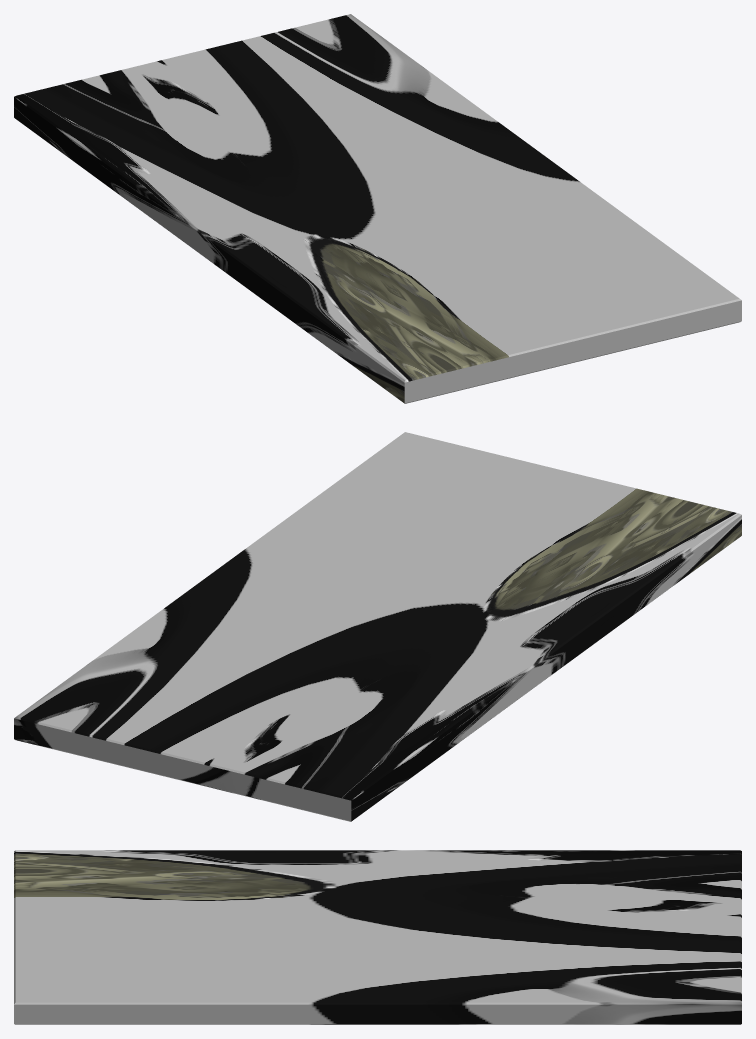
The model's file is Door_K.obj.
3 views of the same model, one above another, from view 1: azimuth 30°, elevation 25°; view 2: azimuth 150°, elevation 25°; view 3: azimuth 270°, elevation 25° (orthographic). The views are drawn at different scales.
Bounding box in the file's own units: 0.381 × 0.0254 × 0.7636.
